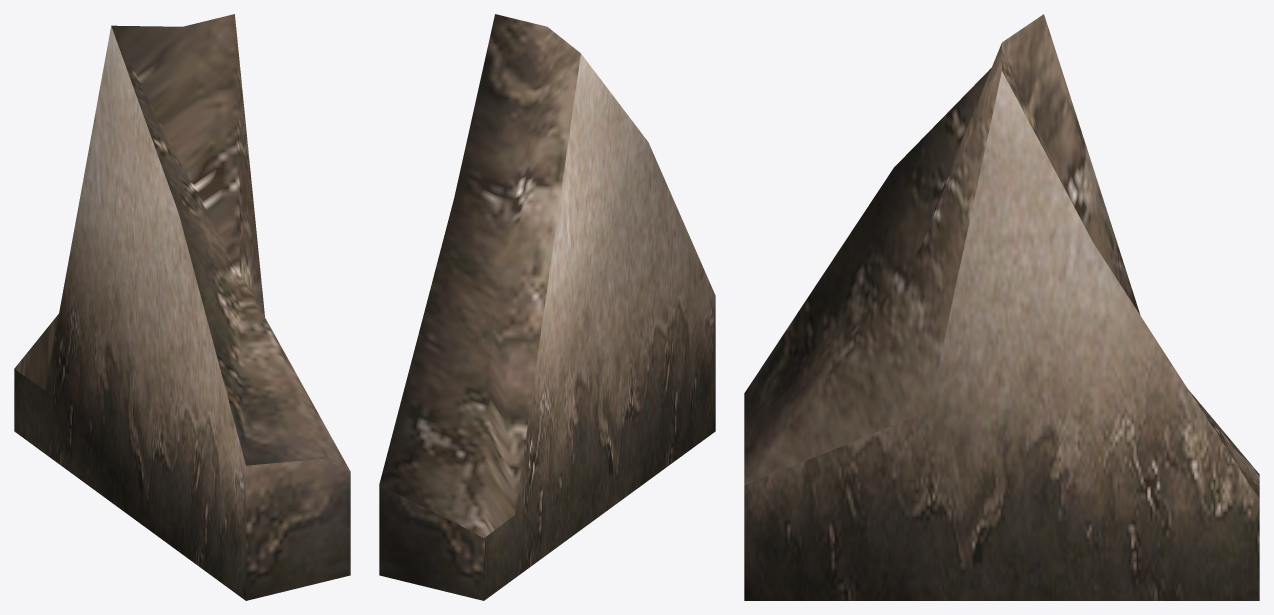
Rendered from stwa15.dae.
3 renders of one model, left to right at view 1: azimuth 30°, elevation 25°; view 2: azimuth 150°, elevation 25°; view 3: azimuth 270°, elevation 25°, orthographic. The views are drawn at different scales.
Parts seen in each view (by area): view 1: wall4; view 2: wall4; view 3: wall4.
Part boxes in pixels (x1,y1,x2,y2): wall4: (14, 14, 350, 600); wall4: (379, 14, 715, 600); wall4: (744, 14, 1259, 600).
Bounding box in the file's own units: 0.3932 × 1.51 × 1.71.
Materials: 1 (1 with a texture image).
